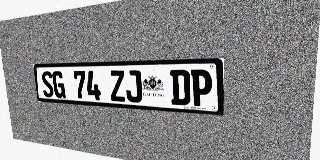4: (85, 71, 101, 100)
7: (72, 71, 87, 100)
D: (170, 70, 190, 106)
G: (52, 71, 66, 98)
J: (125, 70, 142, 103)
P: (191, 69, 212, 107)
S: (41, 71, 54, 98)
Z: (109, 70, 126, 102)
